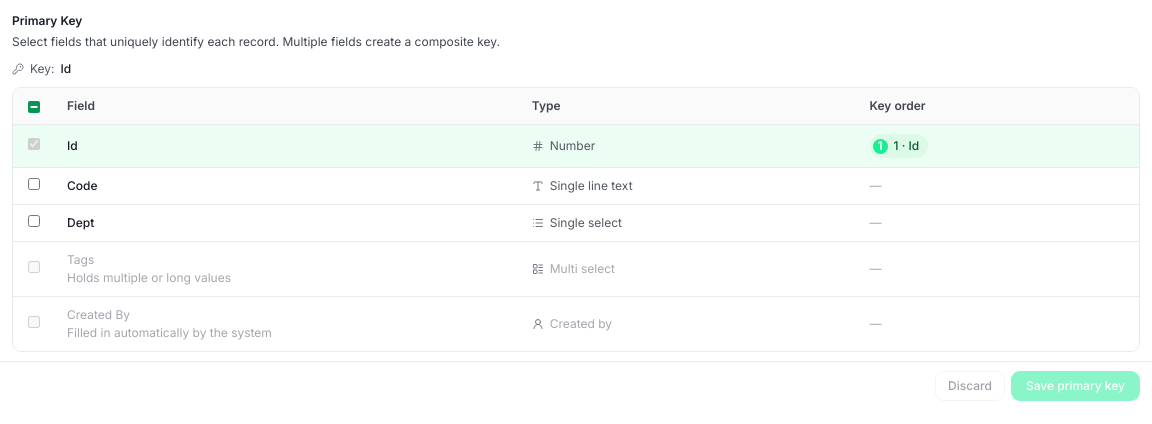
Test: PrimaryKeyPanel › shows other errors as a message
What coordinates should you click on to do the following:
click the checkbox named "Use Code in the primary key"
I would click on:
 (34, 184)
Its box is x1=28 y1=178 x2=40 y2=190.
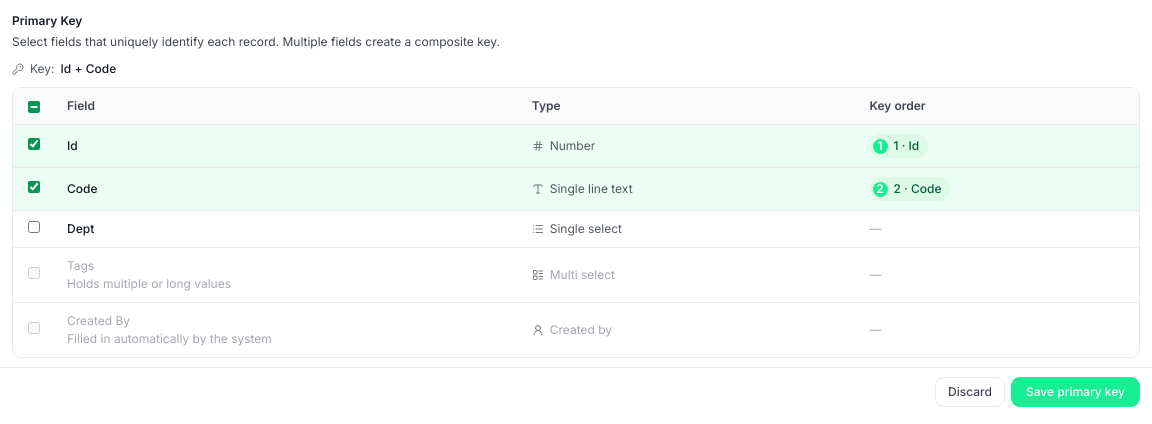
What coordinates should you click on to do the following:
click the button "Save primary key"
I would click on:
 (1076, 392)
Its box is x1=1011 y1=377 x2=1140 y2=407.
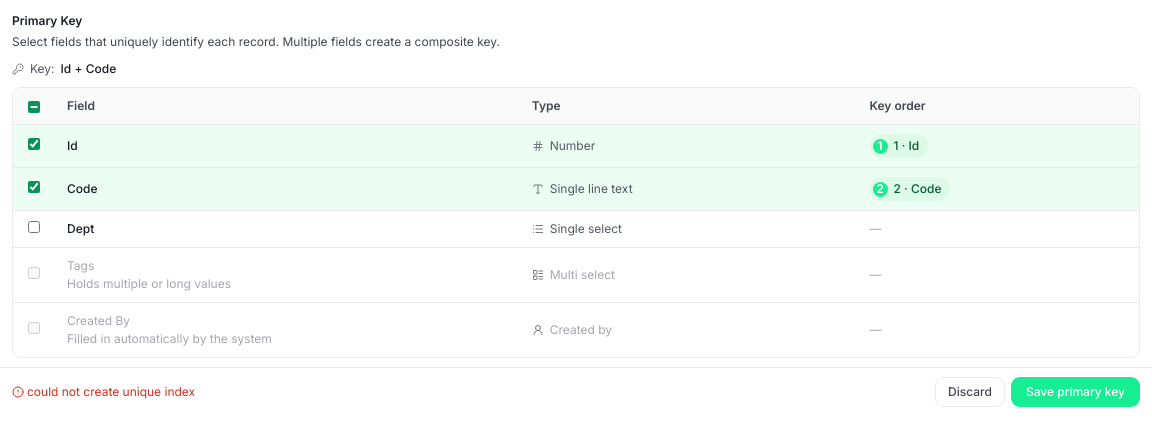
Result: the text "could not create unique index" is shown at x1=27 y1=383 x2=195 y2=401
